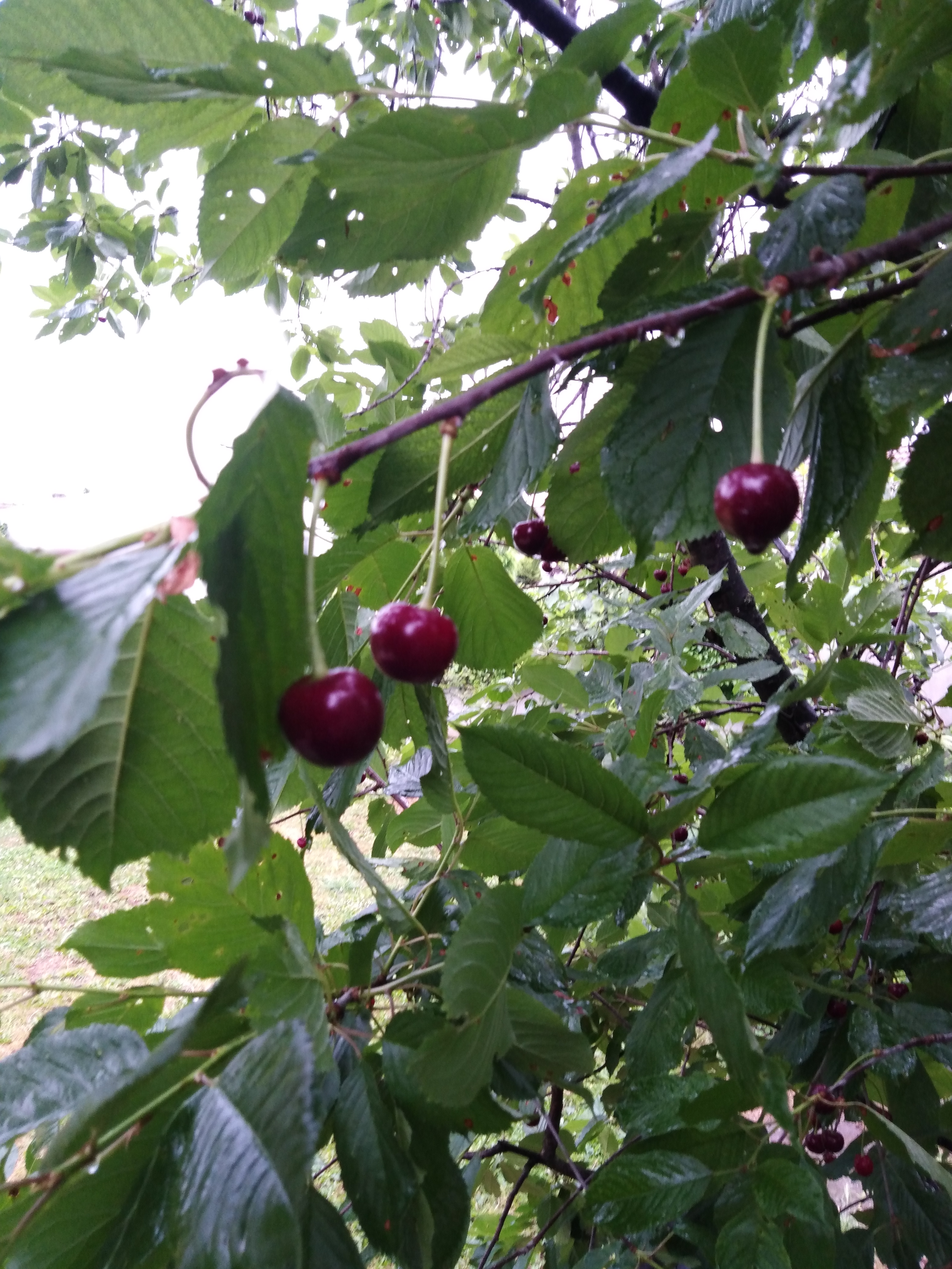Cherry: (705, 442, 810, 554), (509, 502, 559, 558)
